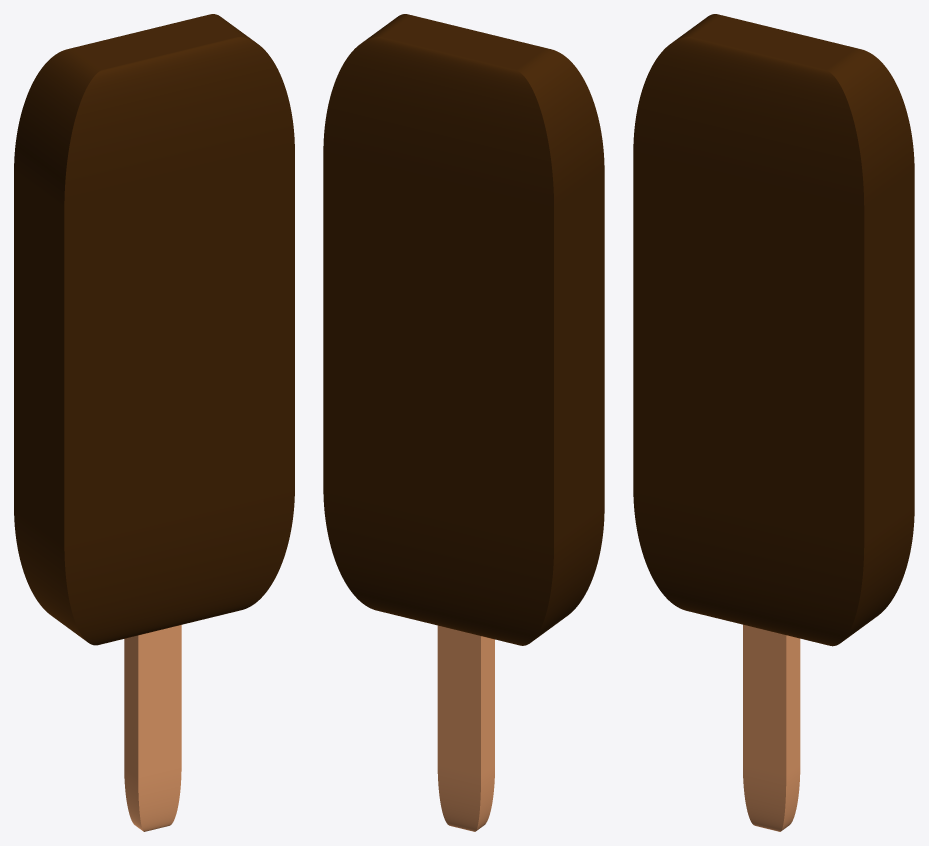
The model's file is IceCream_Candy.gltf.
The picture shows the model from 3 angles, left to right: view 1: azimuth 30°, elevation 25°; view 2: azimuth 150°, elevation 25°; view 3: azimuth 330°, elevation 25°; orthographic projection.
Visible parts, largest first — view 1: Cube.006; view 2: Cube.006; view 3: Cube.006.
Part boxes in pixels (x1=…): Cube.006: x1=14, y1=14, x2=294, y2=831; Cube.006: x1=323, y1=14, x2=604, y2=831; Cube.006: x1=633, y1=14, x2=914, y2=831.
Size of the model in its own units: 0.3771 by 1.22 by 0.1428.
